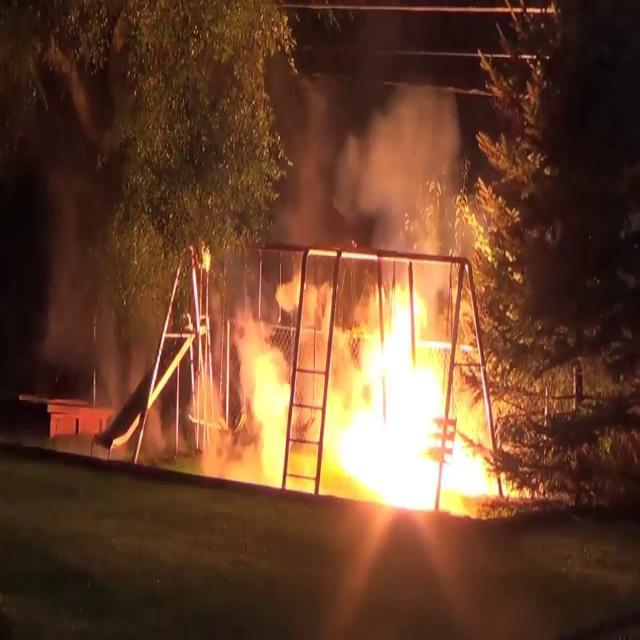Fire: (316, 256, 505, 515)
Smoke: (282, 31, 464, 253), (33, 154, 166, 388)
